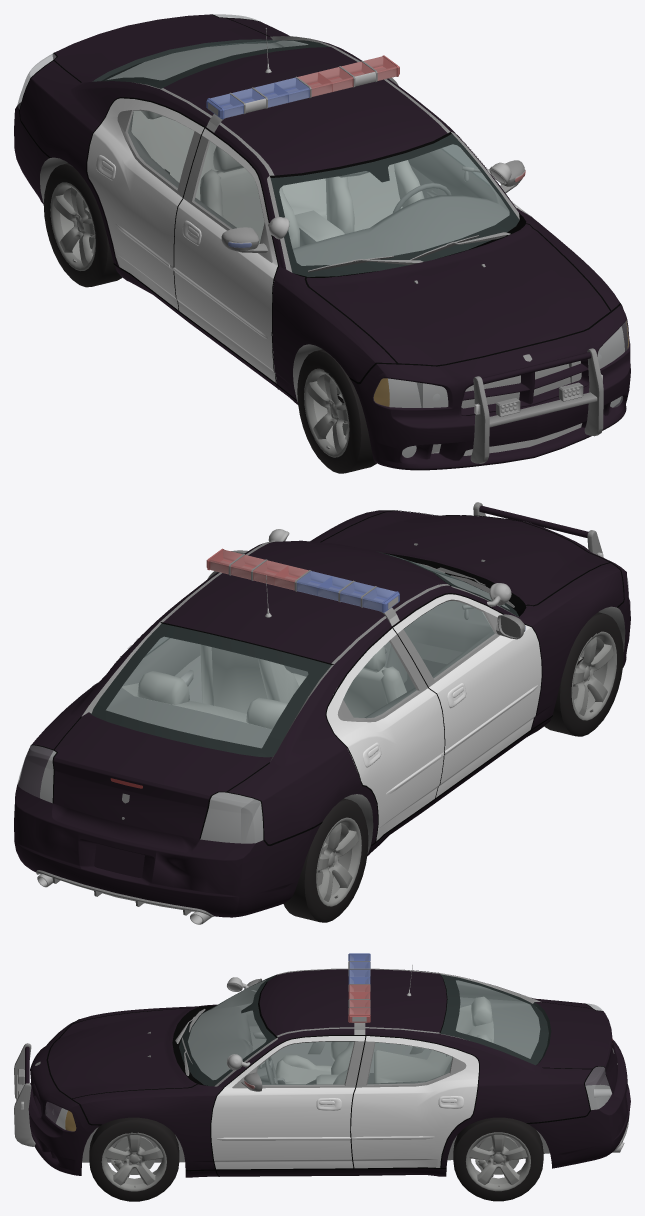
The model's file is PoliceCarDodgeCharger2.fbx.
3 renders of one model, top to bottom at view 1: azimuth 30°, elevation 25°; view 2: azimuth 150°, elevation 25°; view 3: azimuth 270°, elevation 25°, orthographic. The views are drawn at different scales.
Parts seen in each view (by area): view 1: Object.003, Object.004, Object.002, Object.025, Object.001, Object.034; view 2: Object.003, Object.004, Object.001, Object.002, Object.025, Object.034; view 3: Object.003, Object.004, Object.025, Object.002, Object.001, Object.034.
Boxes of the visible parts, x1=… form: Object.003: x1=14, y1=14, x2=630, y2=470; Object.004: x1=87, y1=41, x2=529, y2=383; Object.002: x1=306, y1=224, x2=610, y2=365; Object.025: x1=43, y1=163, x2=376, y2=473; Object.001: x1=53, y1=14, x2=272, y2=82; Object.034: x1=470, y1=348, x2=603, y2=463; Object.003: x1=14, y1=510, x2=630, y2=917; Object.004: x1=97, y1=550, x2=541, y2=840; Object.001: x1=52, y1=712, x2=272, y2=851; Object.002: x1=321, y1=511, x2=608, y2=605; Object.025: x1=283, y1=612, x2=623, y2=922; Object.034: x1=473, y1=502, x2=603, y2=557; Object.003: x1=28, y1=953, x2=630, y2=1177; Object.004: x1=211, y1=978, x2=511, y2=1169; Object.025: x1=89, y1=1117, x2=543, y2=1201; Object.002: x1=48, y1=1007, x2=197, y2=1098; Object.001: x1=535, y1=1002, x2=624, y2=1098; Object.034: x1=14, y1=1043, x2=35, y2=1146.
Bounding box in the file's own units: 6.55 × 5.58 × 16.32.
Materials: 25 (2 with a texture image).
